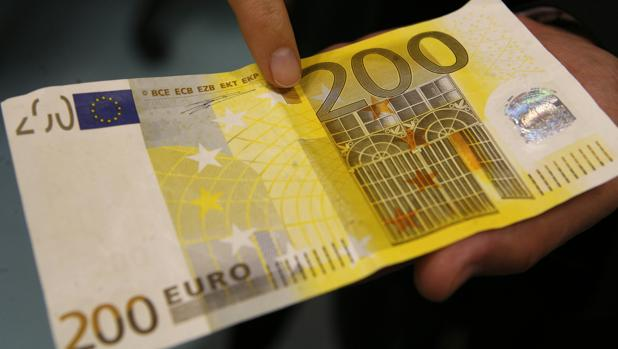billete: (1, 1, 618, 349)
